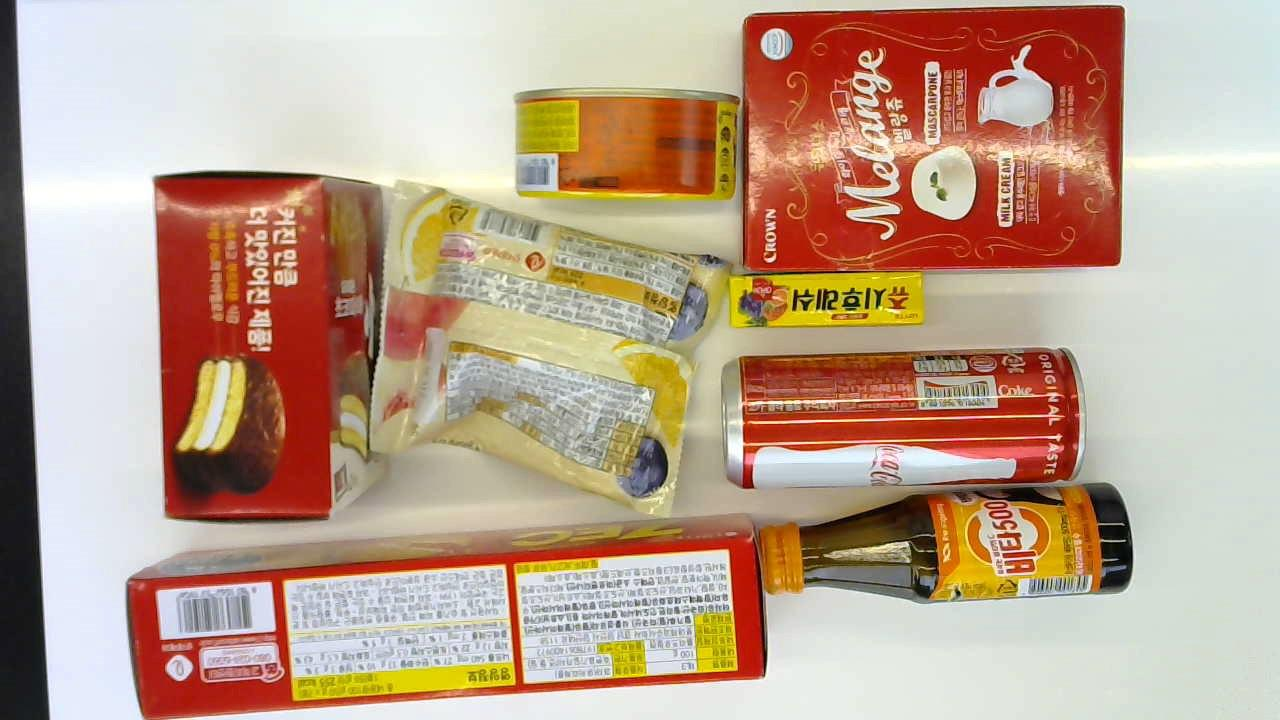chocopie: (152, 171, 384, 517)
coke: (724, 346, 1086, 491)
couque_white: (744, 10, 1125, 276)
gumi_gumi: (368, 176, 732, 512)
juicyfresh: (731, 273, 927, 328)
tuna: (513, 88, 739, 198)
vita500: (756, 485, 1136, 602)
zec: (124, 514, 767, 717)
